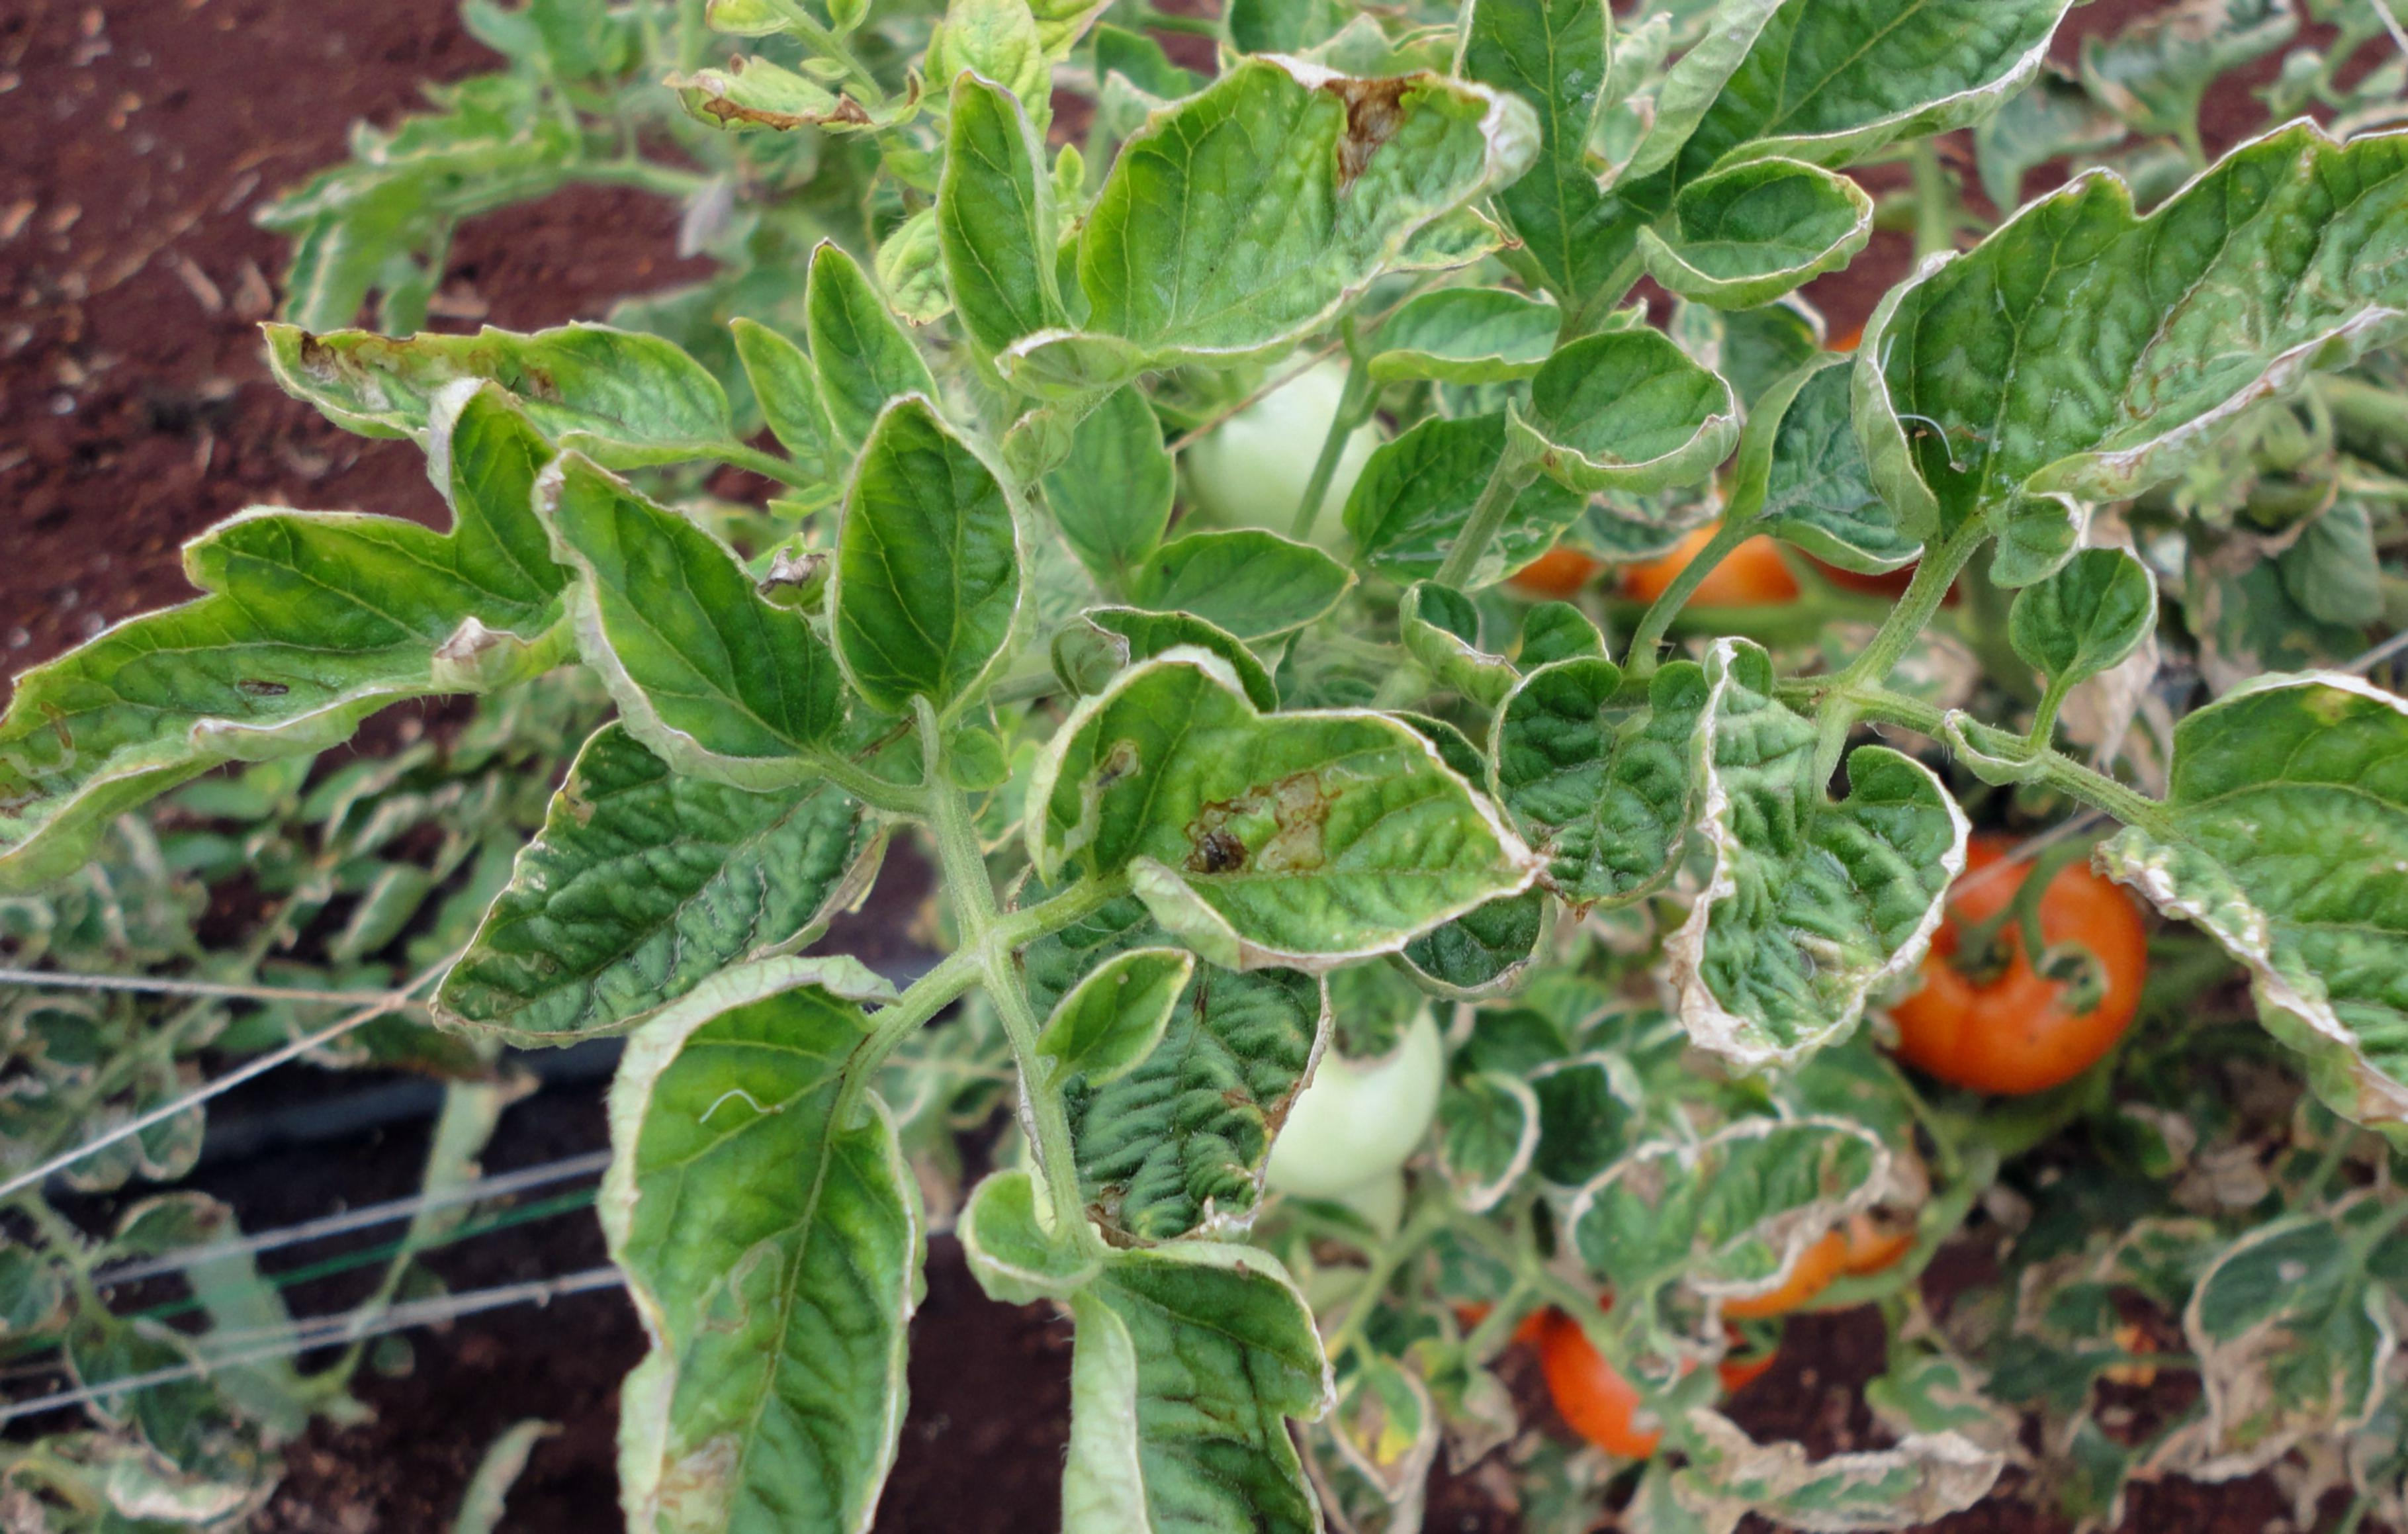Tomato leaf yellow virus: (0, 333, 586, 948), (886, 11, 1560, 460), (1444, 0, 2247, 367), (1810, 105, 2408, 497), (565, 934, 935, 1534), (1018, 562, 1560, 965), (1652, 630, 2003, 1223), (928, 1186, 1453, 1534), (2111, 653, 2408, 1253), (441, 430, 837, 771), (737, 374, 1046, 721)
